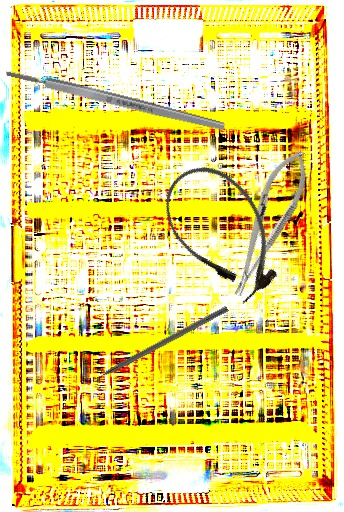Cannula: (148, 149, 298, 315)
Hook Surgical: (79, 304, 230, 390)
Needle Holder: (218, 143, 319, 303)
Scalpel Handle: (3, 66, 228, 134)
